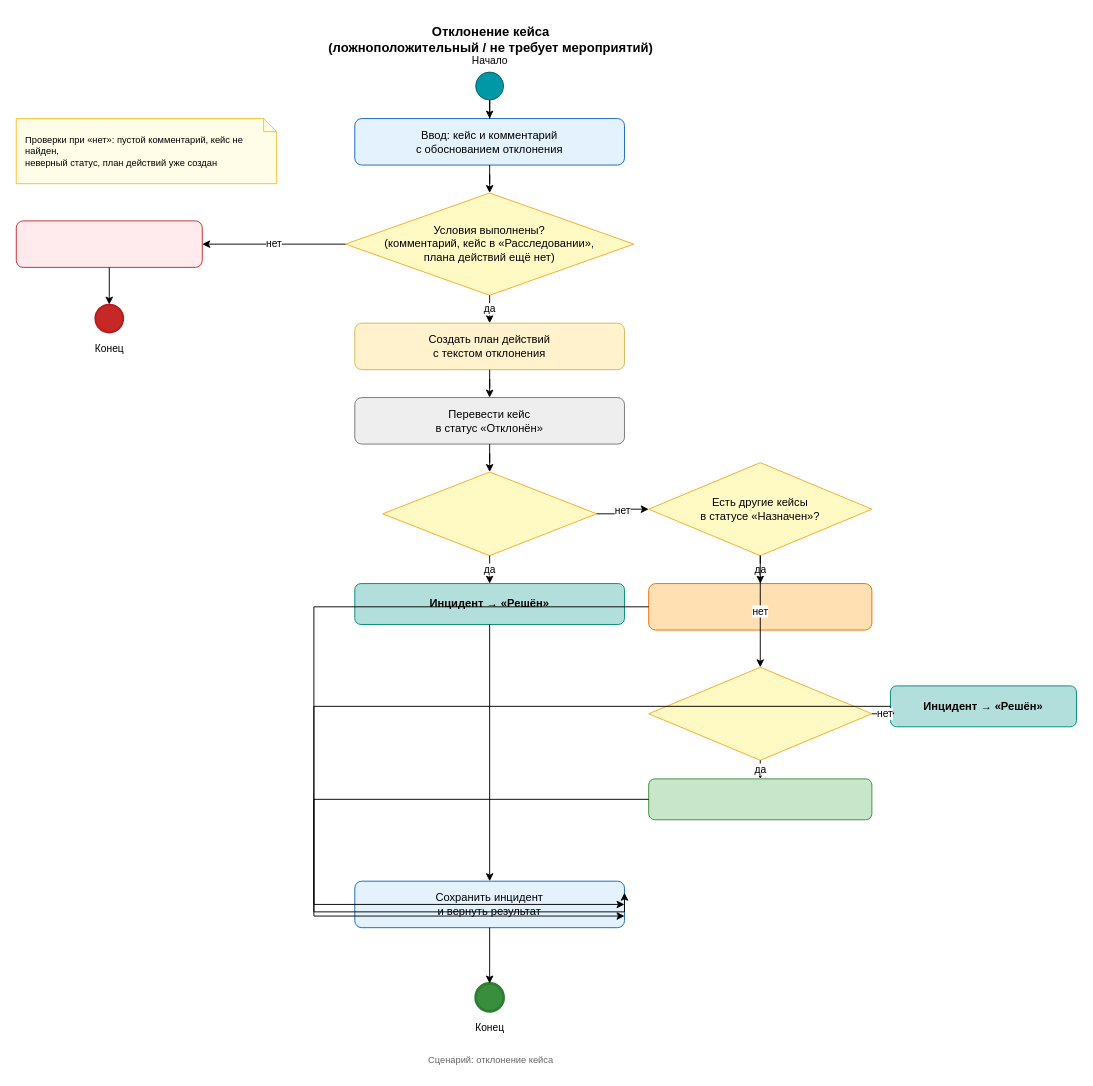
Some shapes in this 1093 by 1086 pixel diagram are drawn without their labels. The centre of each missing label's shape, as x and y in pixels:
Вернуть ошибку пользователю: the point at 108,243
Все остальные кейсы в «Расследовании»?: the point at 760,713
Инцидент → «В работе»: the point at 760,799
Инцидент → «Частично в работе»: the point at 760,606
По инциденту только этот кейс?: the point at 489,513
